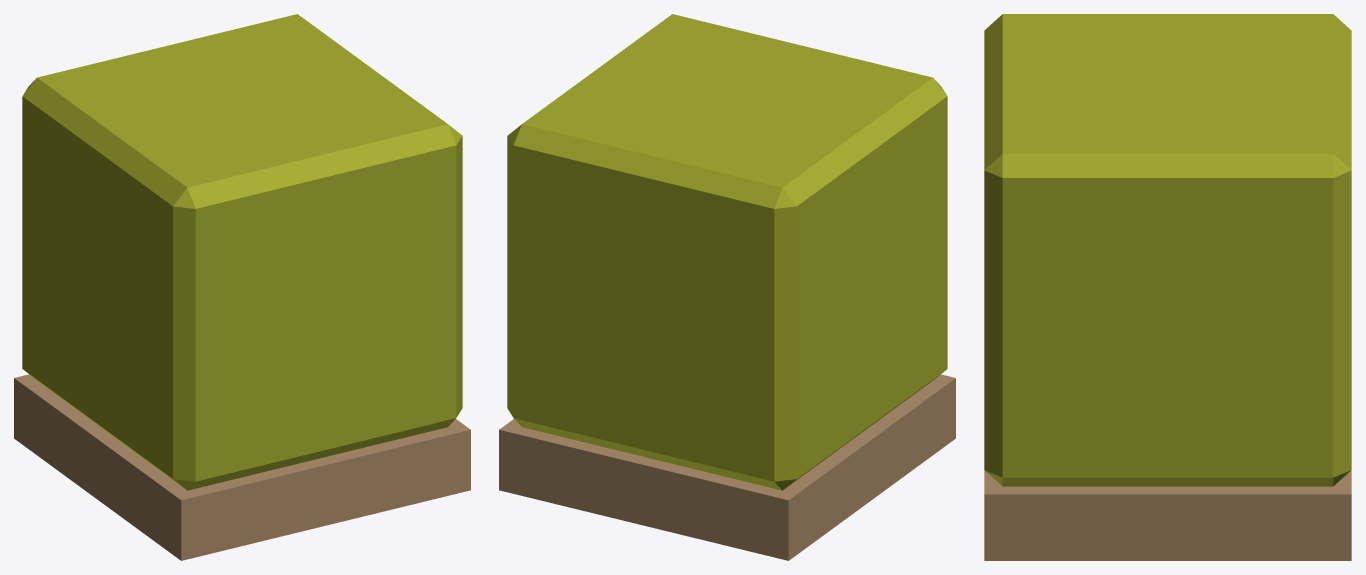
File: Wall.fbx
3 views of the same model, side by side, from view 1: azimuth 30°, elevation 25°; view 2: azimuth 150°, elevation 25°; view 3: azimuth 270°, elevation 25° (orthographic). The views are drawn at different scales.
Parts seen in each view (by area): view 1: pCube2, pCube1; view 2: pCube2, pCube1; view 3: pCube2, pCube1.
Boxes of the visible parts, left/top/right/bottom form: pCube2: left=22, top=14, right=462, bottom=490; pCube1: left=14, top=374, right=470, bottom=560; pCube2: left=507, top=14, right=947, bottom=490; pCube1: left=499, top=374, right=955, bottom=560; pCube2: left=984, top=14, right=1351, bottom=486; pCube1: left=984, top=470, right=1351, bottom=560.
Size of the model in its own units: 1 by 1.2 by 1.
